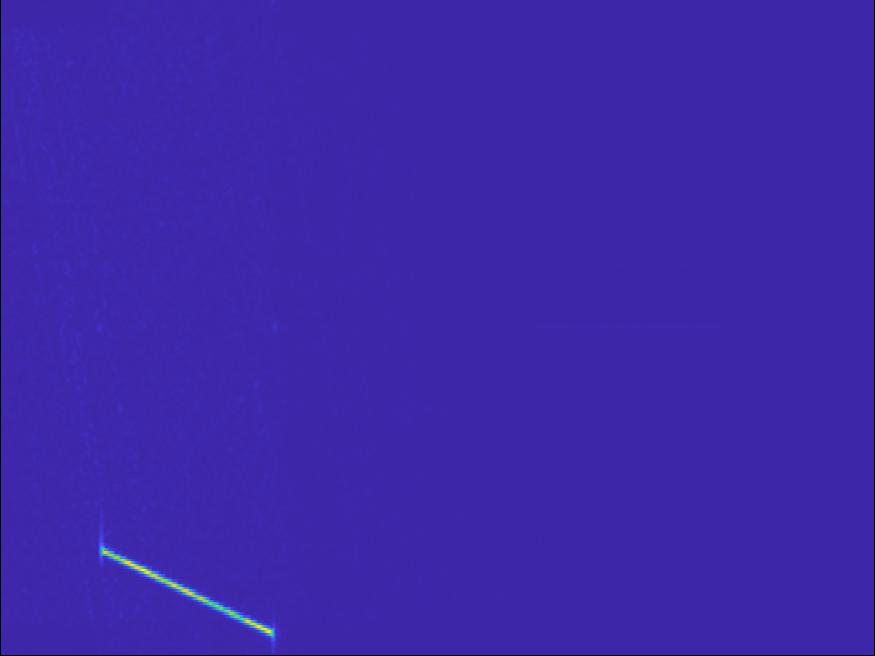Interference: (488, 283, 653, 366), (162, 69, 302, 114)
